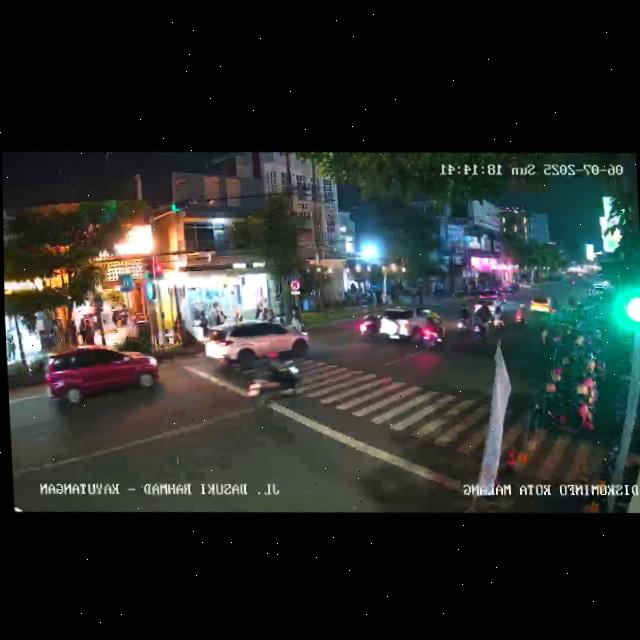car: (41, 341, 161, 412), (204, 315, 309, 374), (377, 304, 439, 348), (530, 294, 557, 315)
motorcycle: (244, 344, 303, 412), (414, 309, 446, 354), (356, 308, 381, 344), (470, 301, 490, 339), (454, 305, 472, 337), (512, 302, 530, 326), (491, 305, 507, 332)
person: (81, 316, 95, 345), (5, 333, 15, 362), (212, 301, 224, 324), (199, 306, 209, 333), (69, 317, 79, 344)
